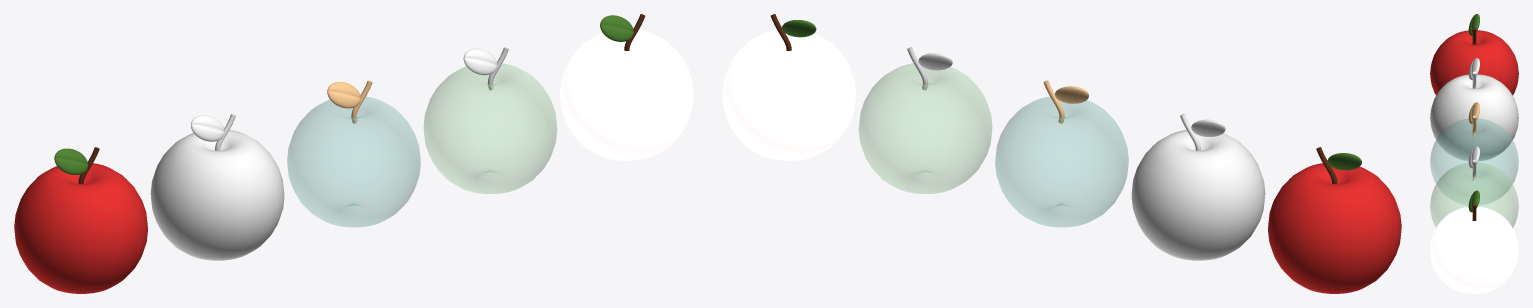
The model's file is apple.glb.
3 renders of one model, left to right at view 1: azimuth 30°, elevation 25°; view 2: azimuth 150°, elevation 25°; view 3: azimuth 270°, elevation 25°, orthographic. The views are drawn at different scales.
Parts seen in each view (by area): view 1: Sphere.002, Sphere.008, Sphere, Sphere.006, Sphere.004, Sphere.007, Sphere.003, Sphere.005, Sphere.001, Sphere.009; view 2: Sphere.002, Sphere, Sphere.008, Sphere.006, Sphere.004, Sphere.007, Sphere.001, Sphere.005, Sphere.009, Sphere.003; view 3: Sphere.008, Sphere.002, Sphere.004, Sphere, Sphere.006, Sphere.001, Sphere.007, Sphere.003, Sphere.009, Sphere.005, BezierCurve.003, BezierCurve.002 (+3 smaller).
Boxes of the visible parts, x1,y1,x2,y2 form: Sphere.002: (150, 130, 284, 260); Sphere.008: (560, 30, 693, 160); Sphere: (14, 163, 147, 293); Sphere.006: (424, 63, 556, 193); Sphere.004: (287, 97, 420, 226); Sphere.007: (463, 48, 497, 75); Sphere.003: (191, 115, 224, 141); Sphere.005: (327, 82, 360, 108); Sphere.001: (54, 148, 87, 174); Sphere.009: (600, 15, 633, 41); Sphere.002: (1131, 130, 1265, 260); Sphere: (1268, 163, 1401, 293); Sphere.008: (722, 30, 855, 160); Sphere.006: (859, 63, 991, 193); Sphere.004: (995, 97, 1128, 226); Sphere.007: (918, 53, 952, 70); Sphere.001: (1327, 153, 1361, 170); Sphere.005: (1055, 86, 1088, 103); Sphere.009: (782, 20, 816, 37); Sphere.003: (1191, 119, 1225, 136); Sphere.008: (1430, 206, 1518, 293); Sphere.002: (1430, 74, 1518, 161); Sphere.004: (1430, 119, 1518, 204); Sphere: (1430, 30, 1518, 95); Sphere.006: (1430, 163, 1518, 227); Sphere.001: (1468, 14, 1479, 35); Sphere.007: (1468, 146, 1479, 168); Sphere.003: (1468, 58, 1479, 79); Sphere.009: (1468, 190, 1479, 212); Sphere.005: (1468, 102, 1479, 124); BezierCurve.003: (1472, 159, 1476, 180); BezierCurve.002: (1472, 115, 1476, 136).
Bounding box in the file's own units: 1.66 × 0.3197 × 0.2916.
